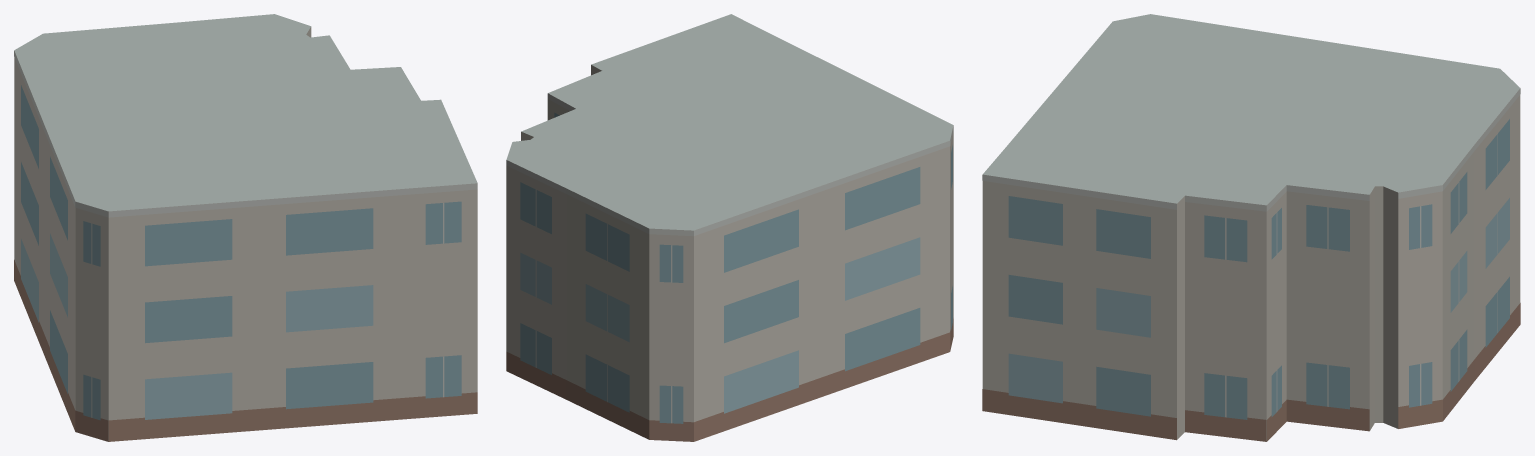
The model's file is survey-upis-32556196.glb.
3 views of the same model, side by side, from view 1: azimuth 30°, elevation 25°; view 2: azimuth 150°, elevation 25°; view 3: azimuth 270°, elevation 25° (orthographic). The views are drawn at different scales.
Parts seen in each view (by area): view 1: survey-upis-32556196.tmp; view 2: survey-upis-32556196.tmp; view 3: survey-upis-32556196.tmp.
Boxes of the visible parts, left/top/right/bottom form: survey-upis-32556196.tmp: left=14, top=14, right=477, bottom=441; survey-upis-32556196.tmp: left=506, top=14, right=953, bottom=441; survey-upis-32556196.tmp: left=982, top=14, right=1520, bottom=441.
Bounding box in the file's own units: 15.89 × 9.15 × 18.87.
